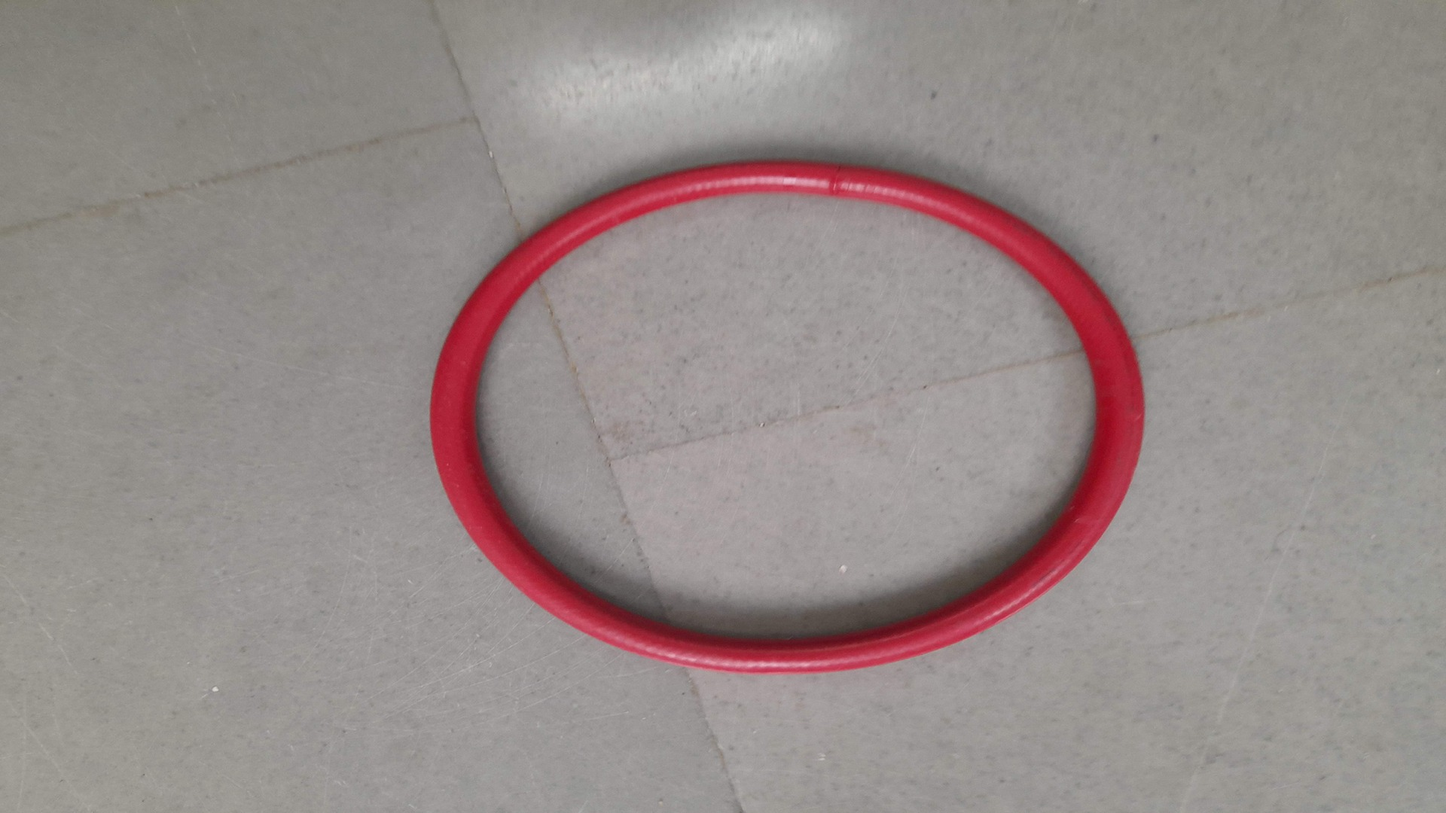Red ring: (429, 161, 1148, 674)
